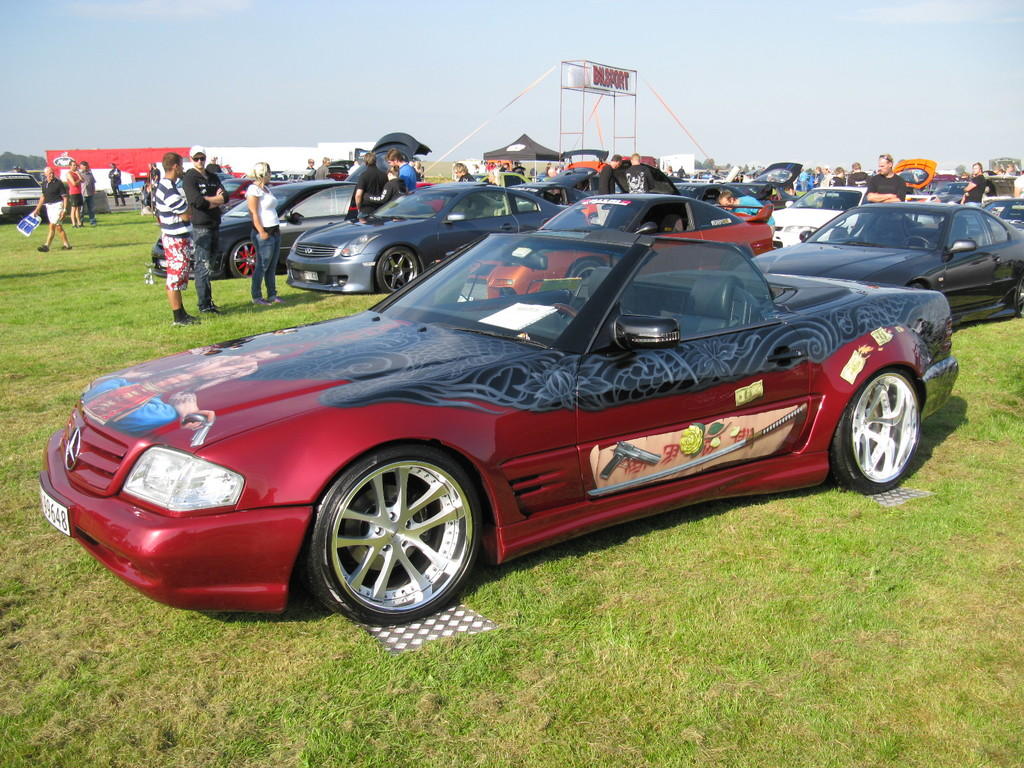Car: (67, 200, 935, 643), (149, 142, 1023, 246), (147, 131, 430, 277), (737, 195, 1022, 326), (282, 182, 592, 295), (455, 193, 777, 298), (0, 171, 47, 218), (24, 167, 42, 181)
